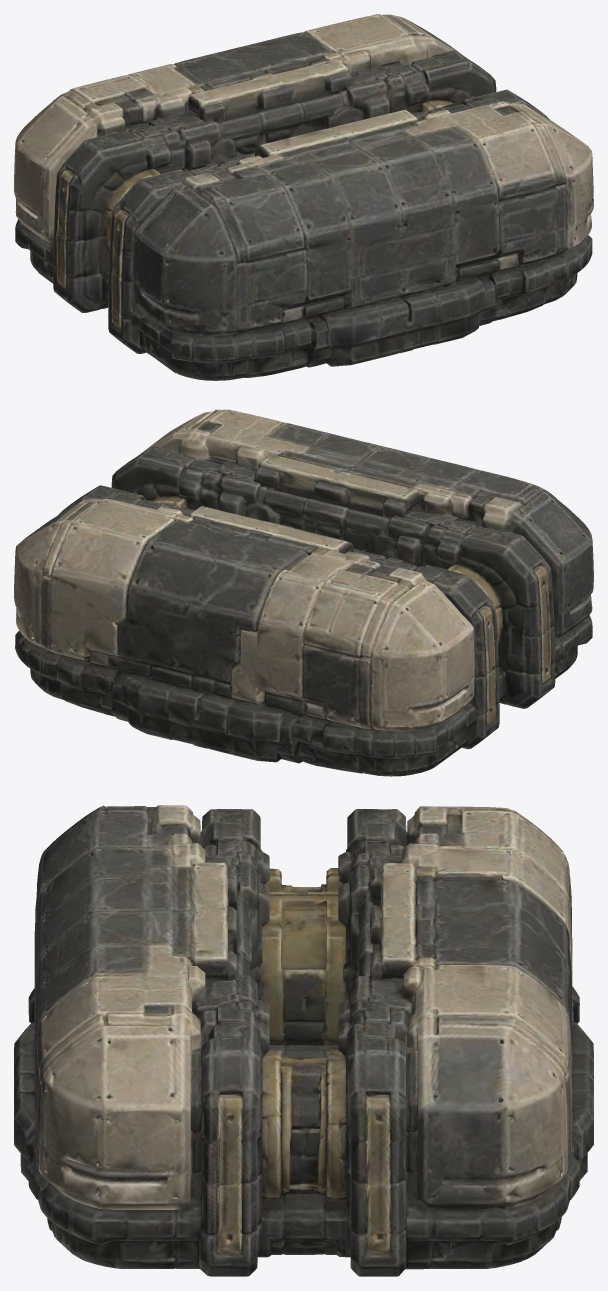
The model's file is arc-switchback-lean.glb.
3 renders of one model, top to bottom at view 1: azimuth 30°, elevation 25°; view 2: azimuth 150°, elevation 25°; view 3: azimuth 270°, elevation 25°, orthographic. The views are drawn at different scales.
Visible parts, largest first — view 1: chassis; view 2: chassis; view 3: chassis.
Boxes of the visible parts, x1,y1,x2,y2 form: chassis: (14,14,593,380); chassis: (14,409,593,776); chassis: (14,805,593,1276).
Bounding box in the file's own units: 0.99 × 0.3795 × 0.8494.
1 material, 1 textured.
